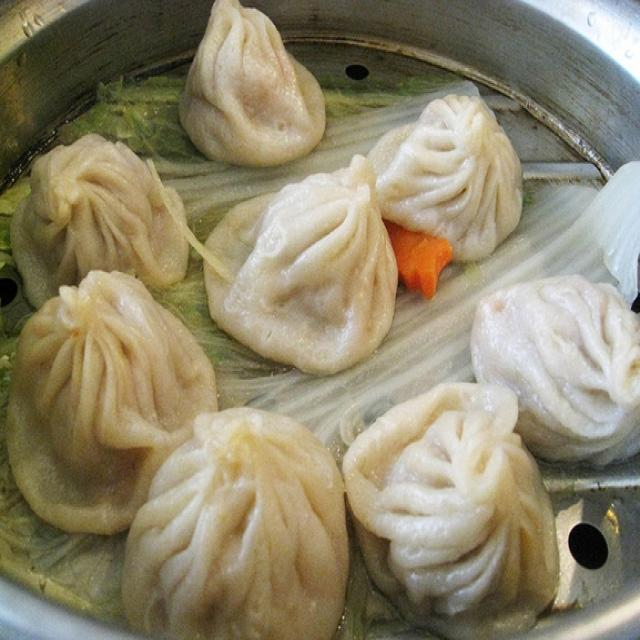带馅早点: (45, 28, 616, 608)
